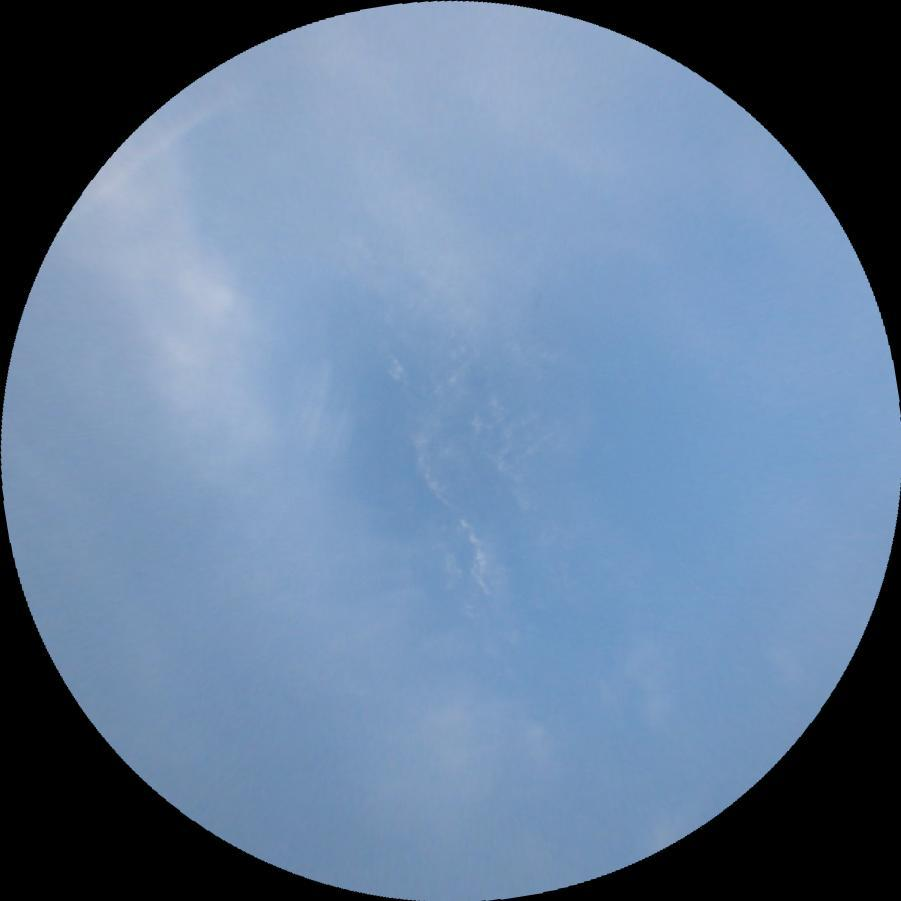contrail veryold: (100, 78, 246, 188)
